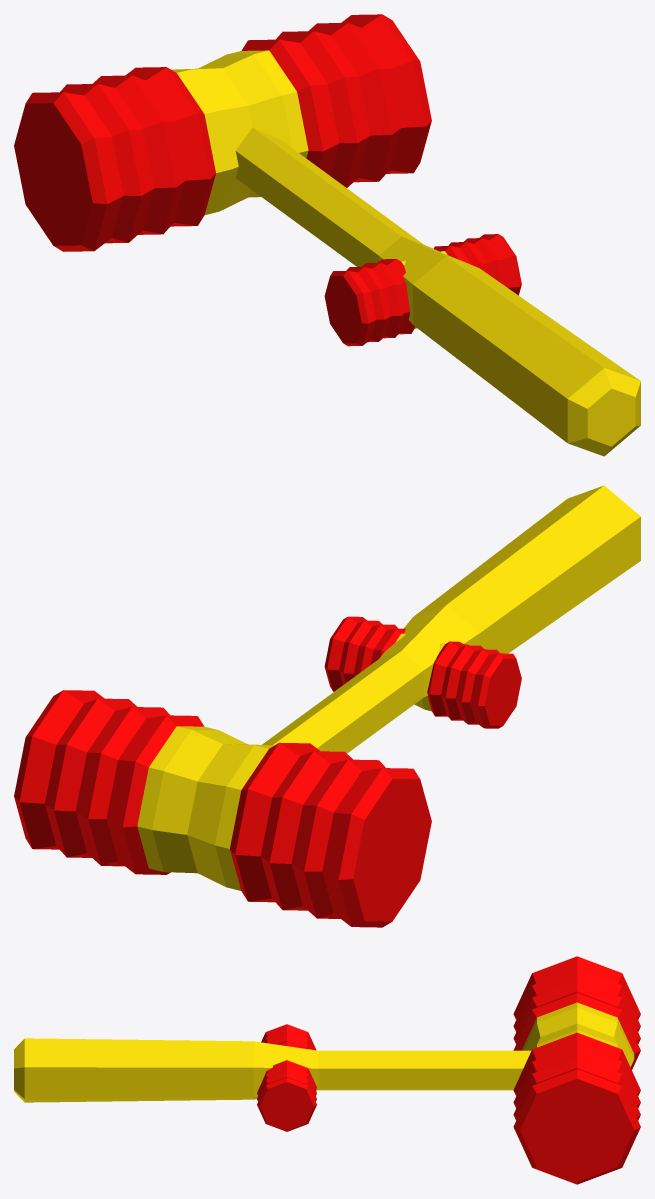
The model's file is ToyHammer.fbx.
3 renders of one model, top to bottom at view 1: azimuth 30°, elevation 25°; view 2: azimuth 150°, elevation 25°; view 3: azimuth 270°, elevation 25°, orthographic. The views are drawn at different scales.
Visible parts, largest first — view 1: Cylinder.001, Cylinder; view 2: Cylinder.001, Cylinder; view 3: Cylinder.001, Cylinder.
Boxes of the visible parts, x1=… form: Cylinder.001: x1=14, y1=14, x2=640, y2=456; Cylinder: x1=324, y1=234, x2=521, y2=346; Cylinder.001: x1=14, y1=485, x2=640, y2=927; Cylinder: x1=324, y1=616, x2=521, y2=728; Cylinder.001: x1=14, y1=956, x2=640, y2=1184; Cylinder: x1=257, y1=1024, x2=316, y2=1131.
Bounding box in the file's own units: 68.14 × 30.64 × 151.
1 material, 1 textured.
